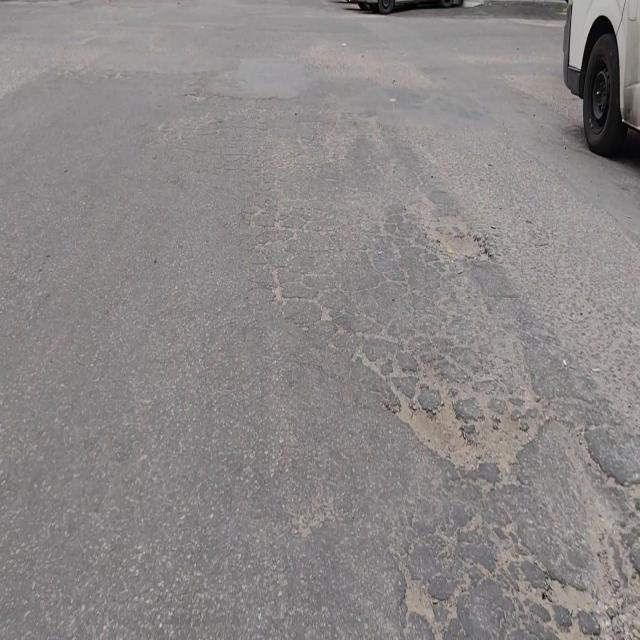Potholes: (390, 390, 539, 484), (526, 570, 613, 640), (432, 230, 489, 261)
